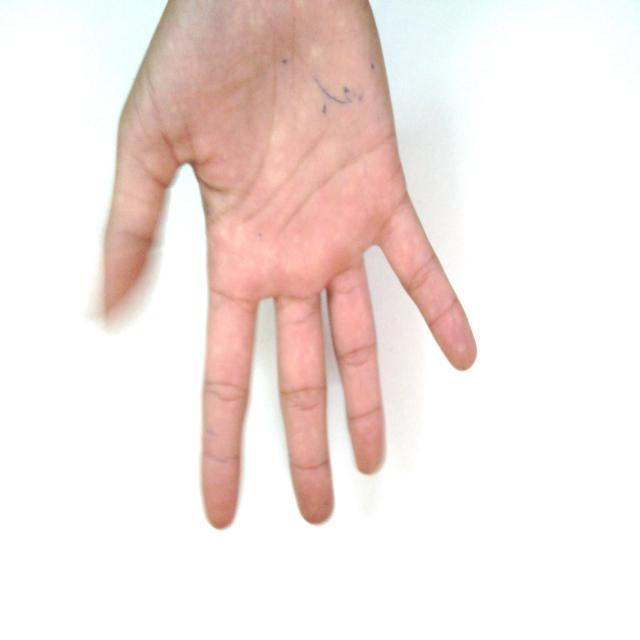others: (79, 1, 556, 526)
